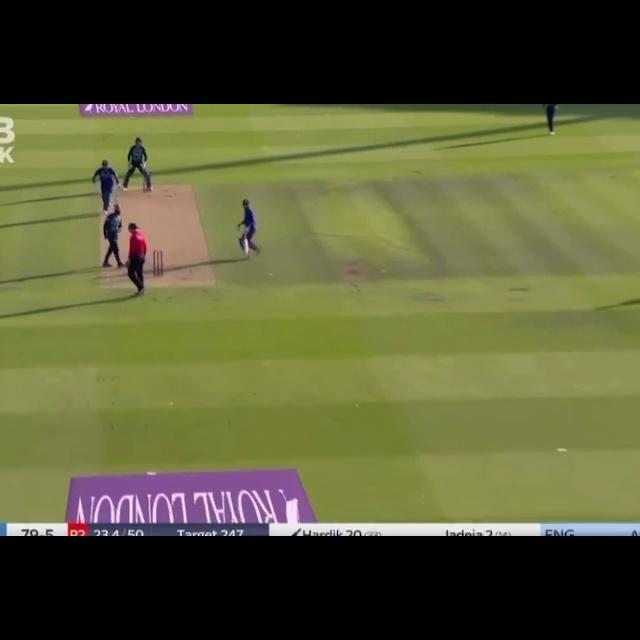umpire: (118, 221, 153, 298)
